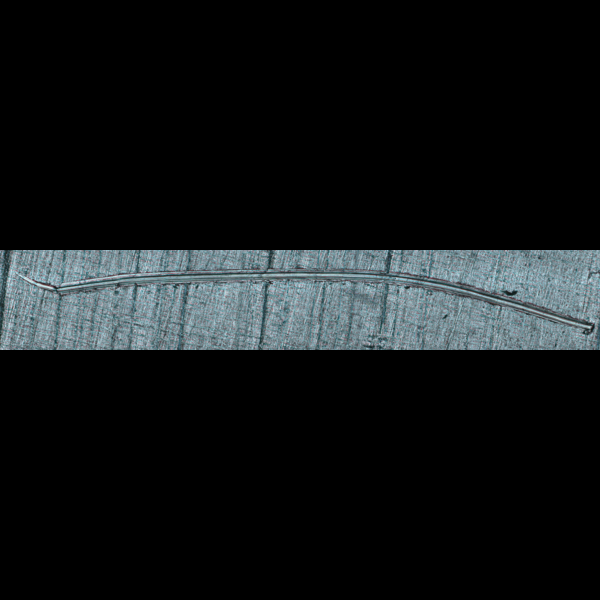d: (11, 264, 596, 339)
